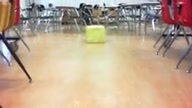cube: (85, 25, 105, 43)
